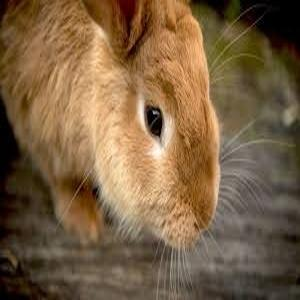rabbit: (0, 0, 222, 252)
